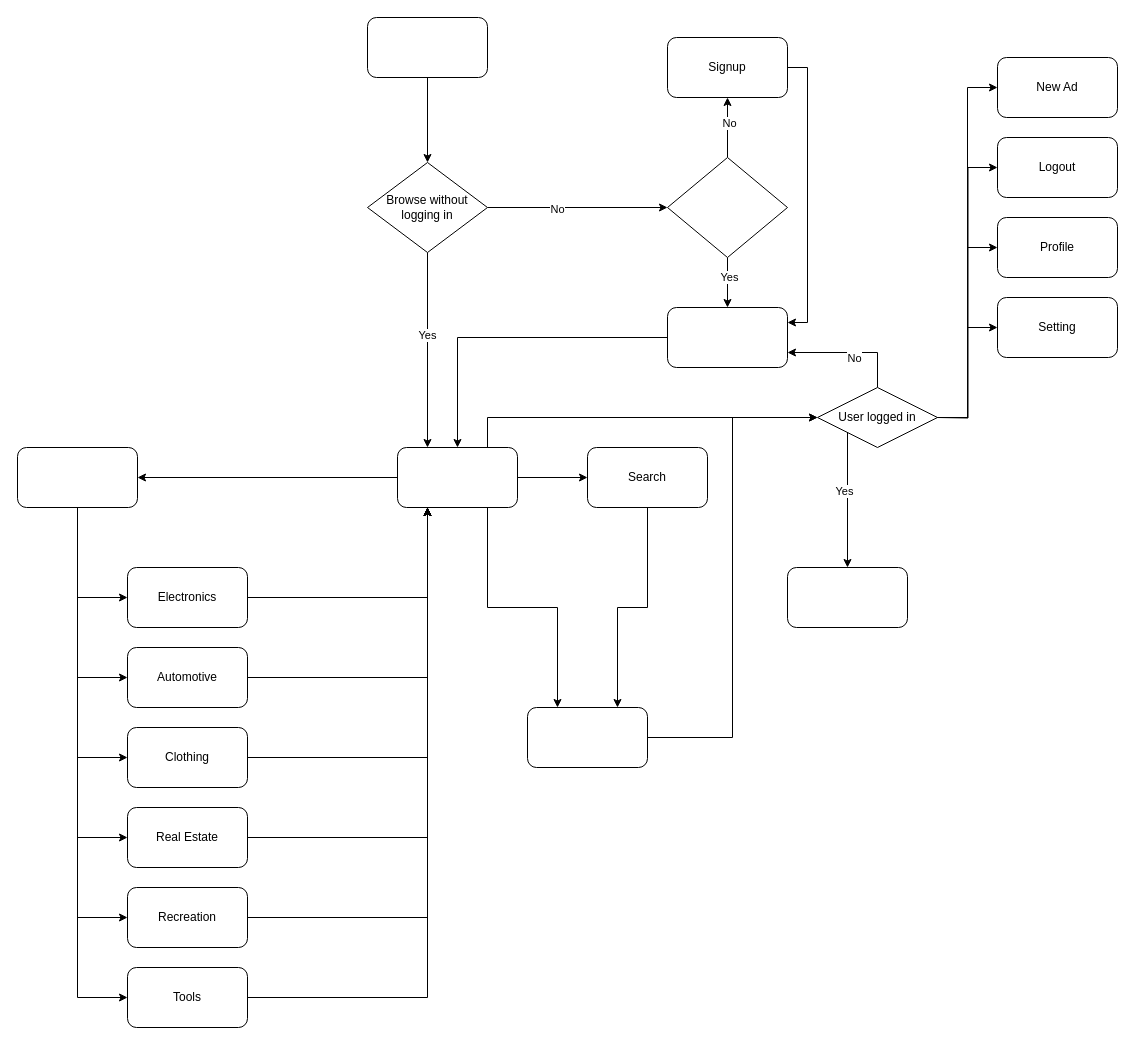
Image size: 1135x1045. Some labels were removed from this diagram. The centre of each missing label's shape, as x and y in pixels:
Filter: (77,477)
Fire sale: (427,47)
Home page: (457,477)
Item: (587,737)
Log In: (727,337)
Place bid: (847,597)
User exists: (727,207)
